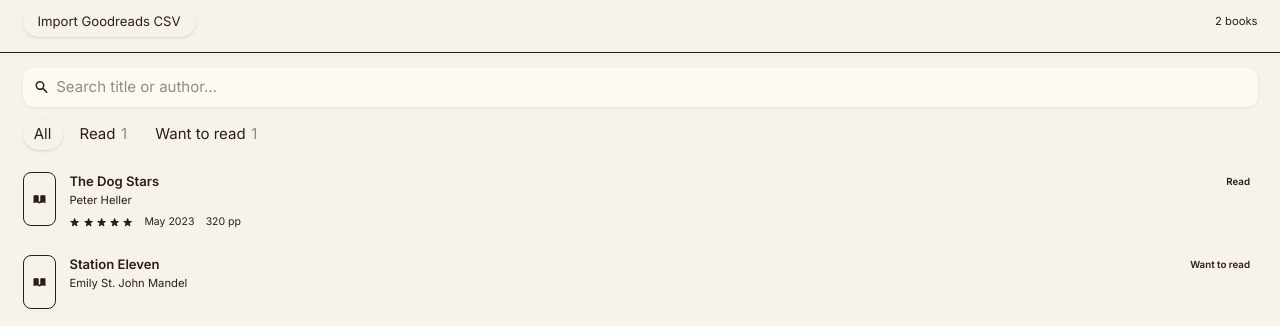
LibraryView › filters books by search query
Type "Station" into the field with placeholder "Search title or author…" at (640, 87), box [22,68,1258,107]
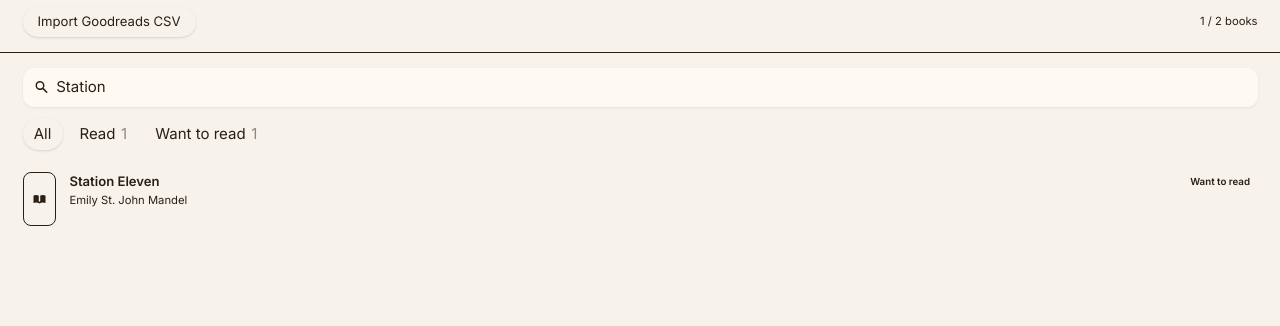
Expected: the text "Station Eleven" is shown, [69,172,160,190]
Expected: the button "The Dog Stars" is gone
